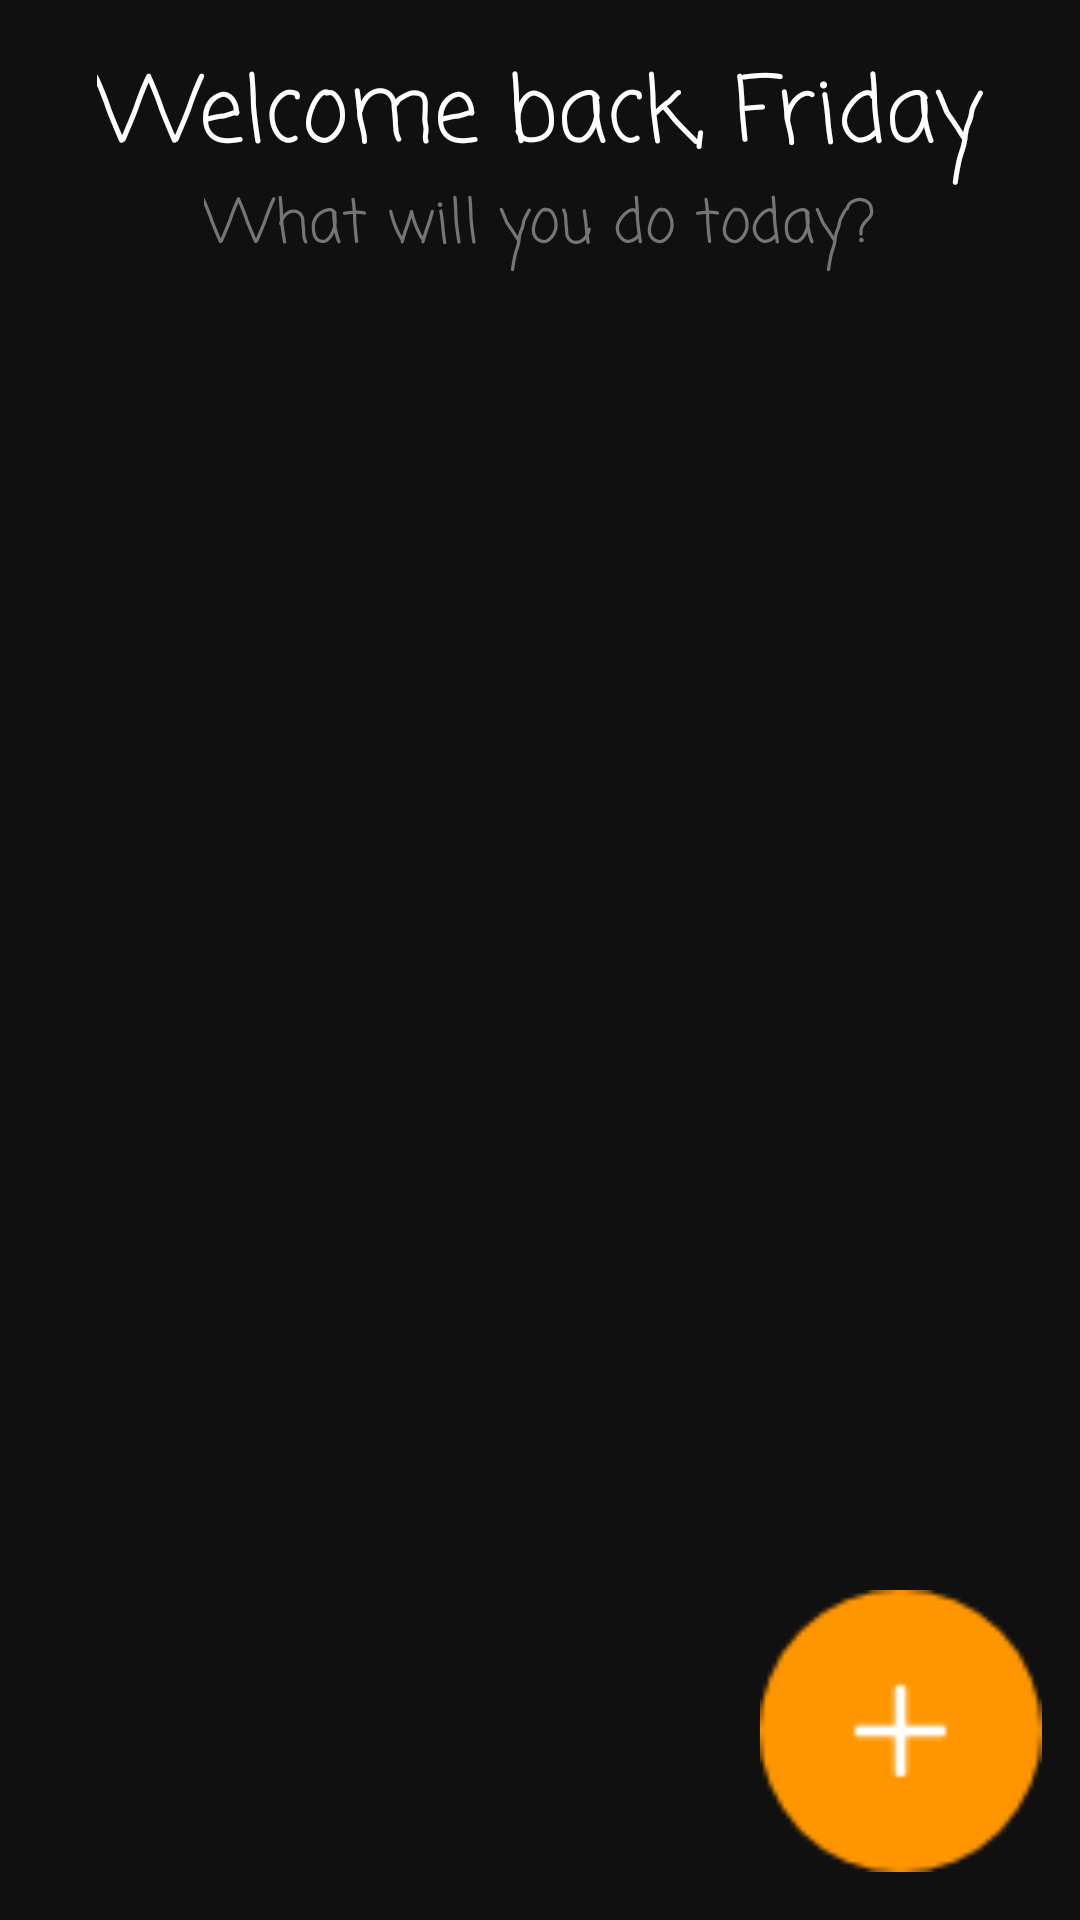

Icons on this 1080px×1920px Android screen, each with its box as (x1, y1, x2, y2):
addbutton: (760, 1590, 1042, 1872)
